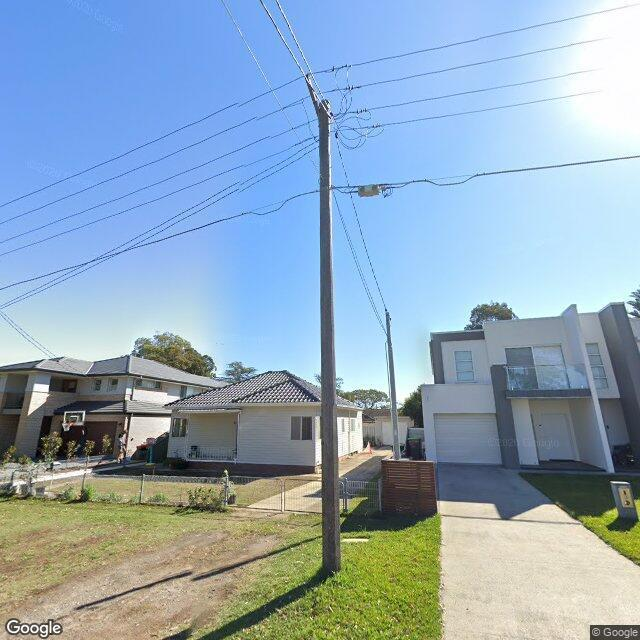crossarm: (304, 72, 320, 115)
steel-pole: (386, 311, 400, 459)
timber-pole: (318, 101, 340, 571)
